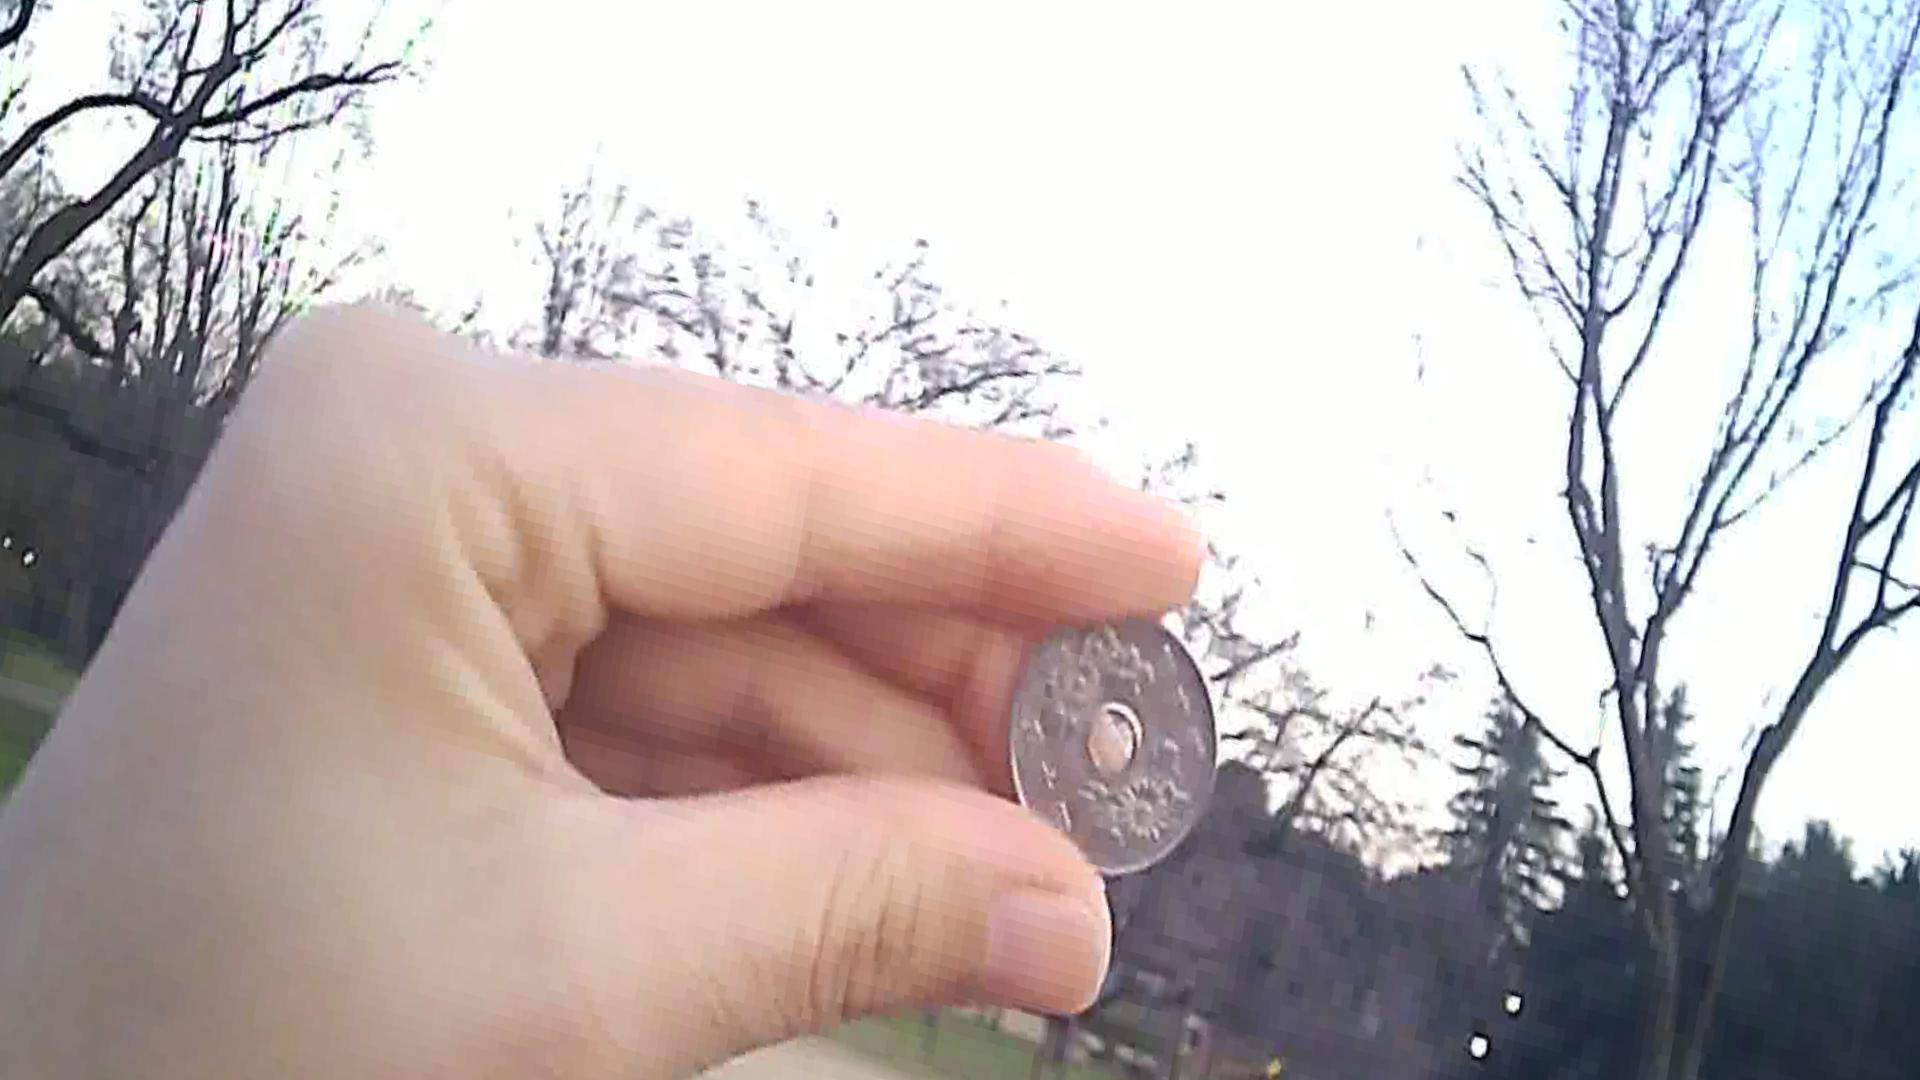50 Yen: (1000, 596, 1203, 874)
